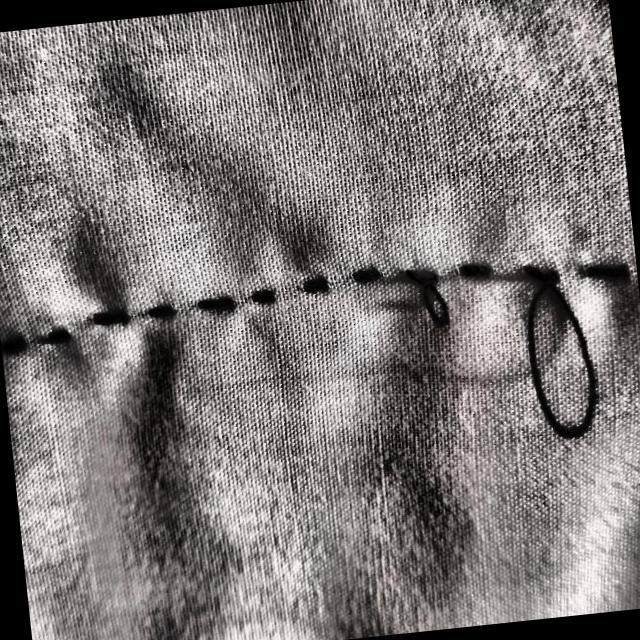gray stitch: (506, 220, 614, 510), (378, 229, 482, 373)
